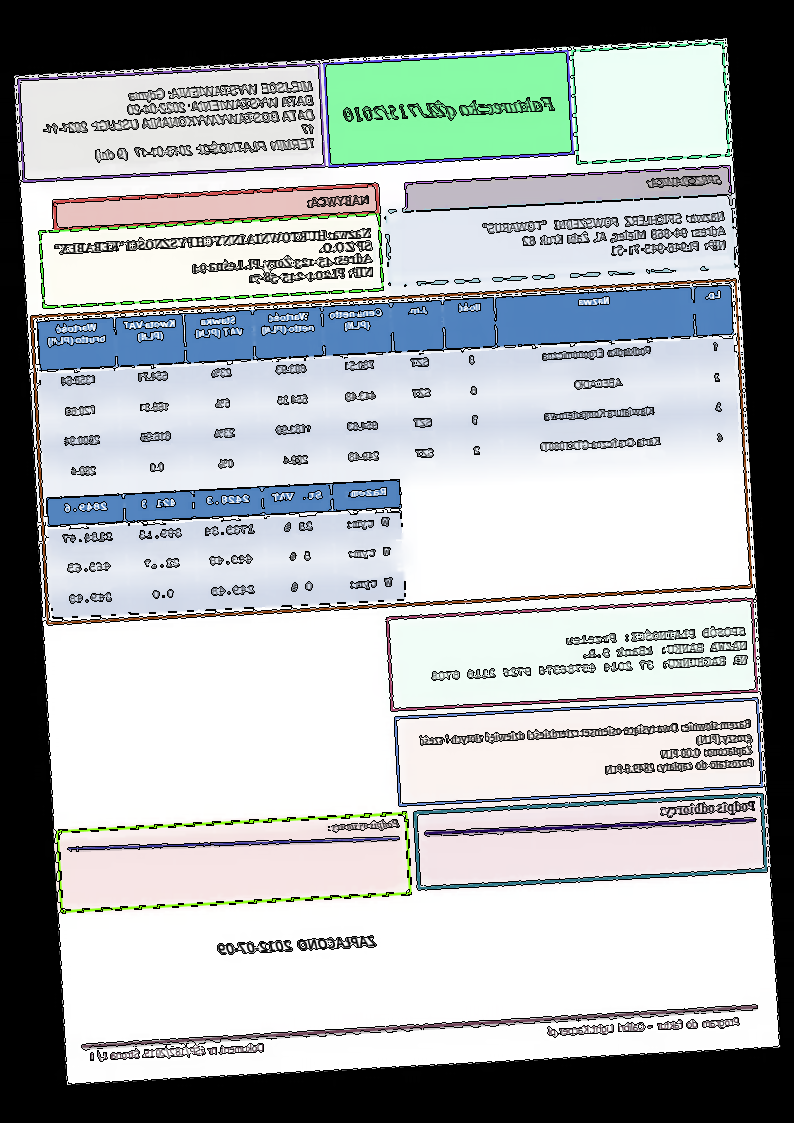Table: (38, 281, 742, 495), (45, 477, 407, 621)
TextBox: (39, 77, 318, 170), (418, 715, 756, 788), (49, 224, 377, 296), (427, 622, 750, 686), (480, 205, 730, 267), (341, 91, 560, 127), (546, 1012, 743, 1041), (86, 1038, 266, 1065), (215, 931, 379, 958), (659, 795, 759, 820), (327, 813, 403, 834), (647, 170, 724, 190), (307, 191, 373, 212)
